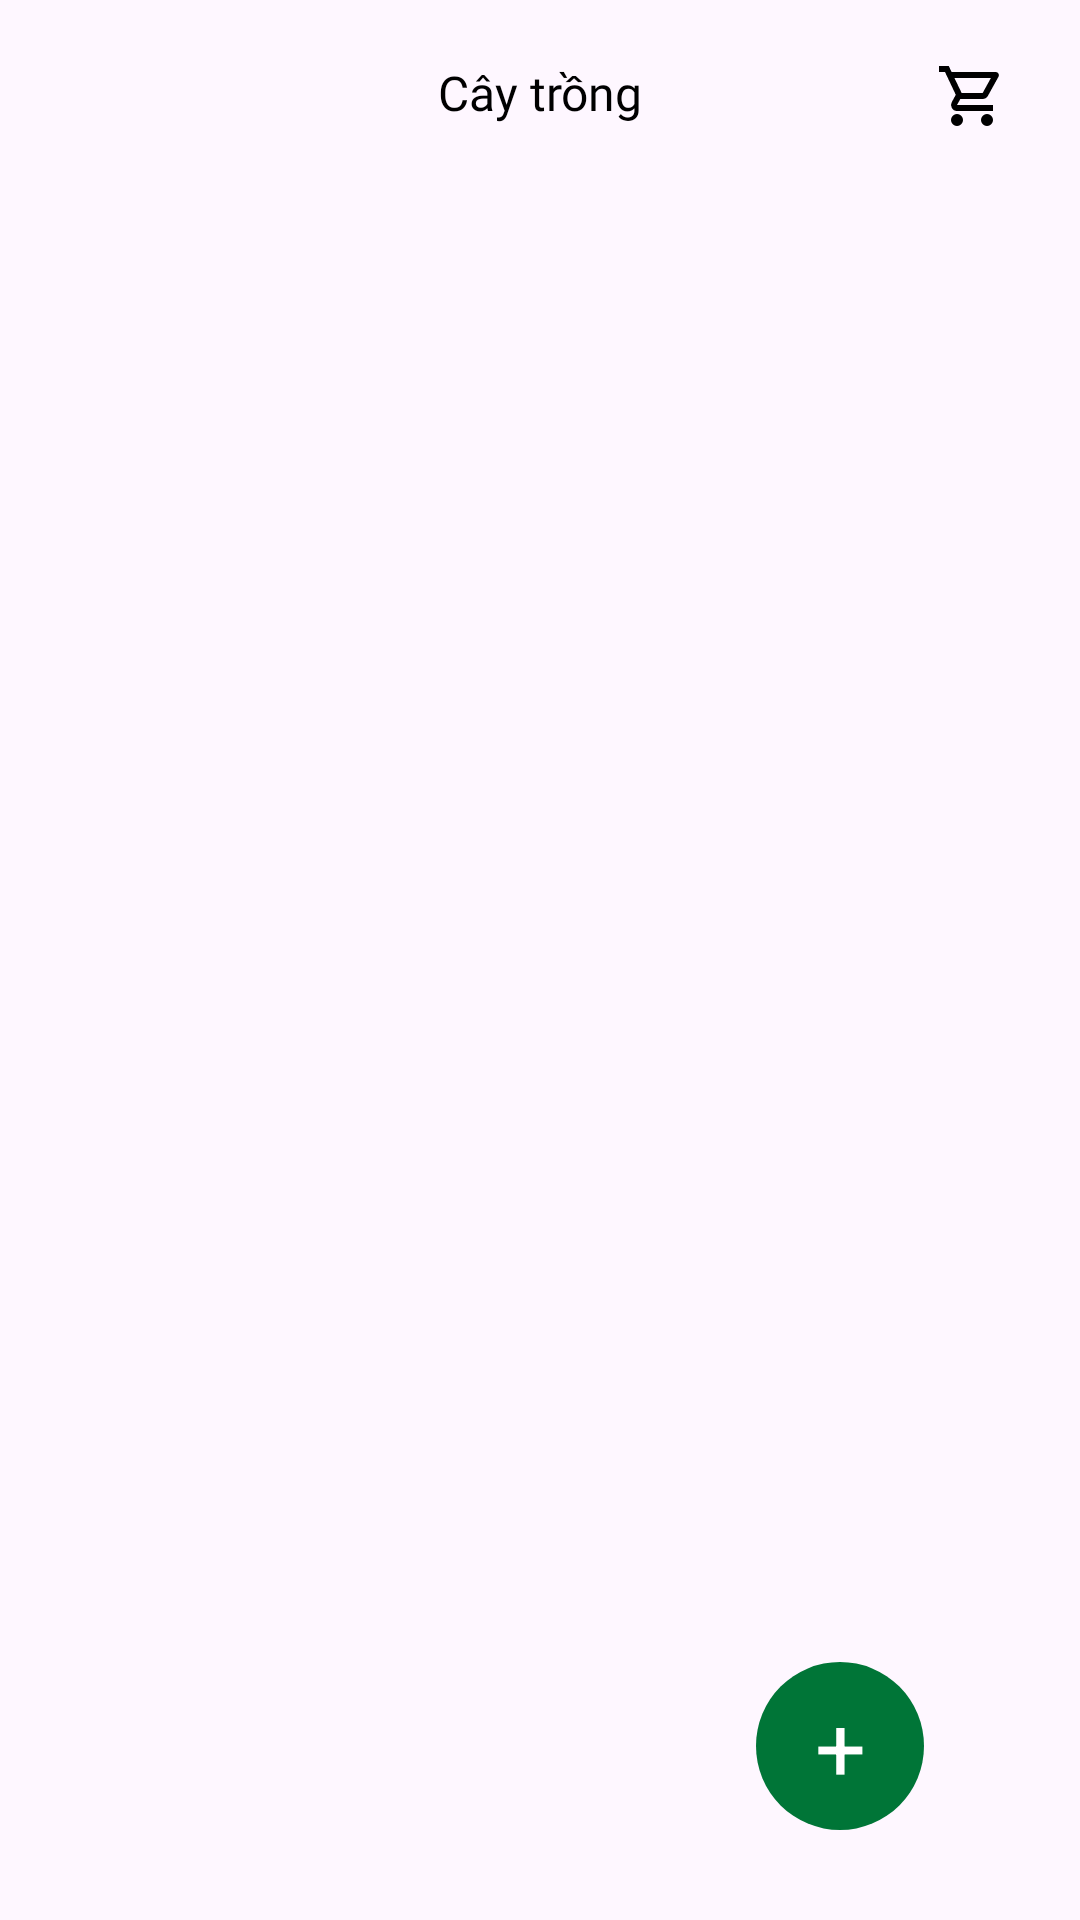

Named icons in this screenshot (1080 × 1920) and their bounding boxes, (x1, y1, x2, y2):
shopping cart: (939, 66, 999, 126)
